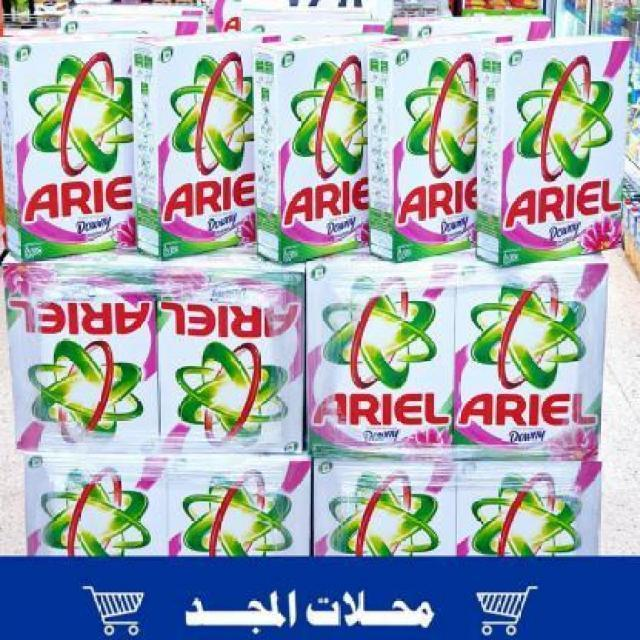Detergent: (472, 40, 623, 256), (4, 31, 136, 258), (306, 258, 457, 454), (2, 265, 159, 450), (155, 265, 300, 464), (131, 33, 252, 260), (358, 32, 476, 260), (251, 41, 366, 262), (166, 452, 314, 556), (455, 452, 601, 556), (26, 452, 166, 560), (310, 453, 456, 556)
